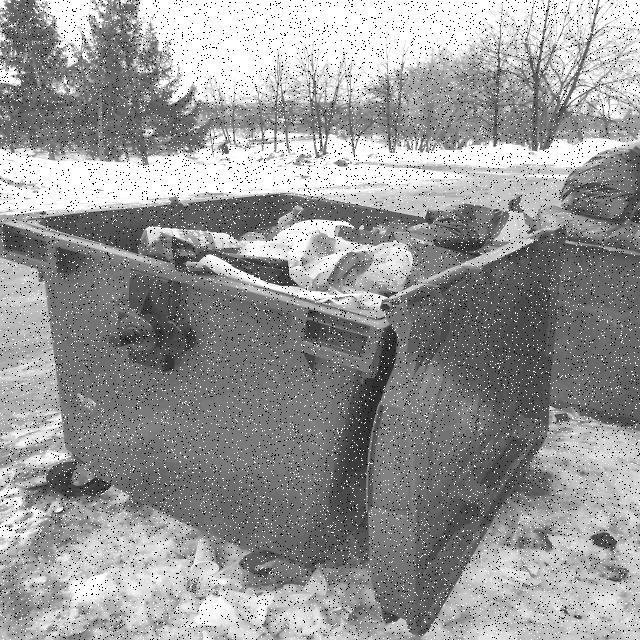Trashcan: (0, 147, 582, 634), (512, 142, 640, 448)
